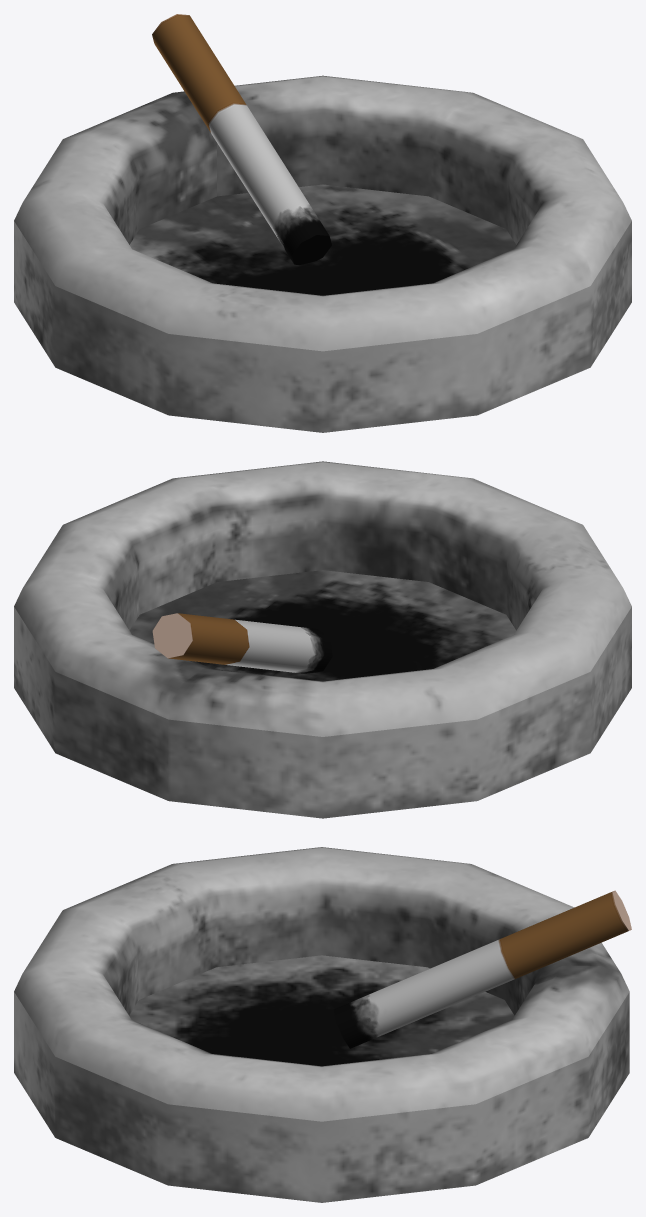
File: Ashtray.glb
3 views of the same model, one above another, from view 1: azimuth 30°, elevation 25°; view 2: azimuth 150°, elevation 25°; view 3: azimuth 270°, elevation 25° (orthographic).
Visible parts, largest first — view 1: Cylinder.001_misc_0; view 2: Cylinder.001_misc_0; view 3: Cylinder.001_misc_0.
Boxes of the visible parts, x1=… form: Cylinder.001_misc_0: x1=14, y1=14, x2=631, y2=432; Cylinder.001_misc_0: x1=14, y1=461, x2=631, y2=818; Cylinder.001_misc_0: x1=14, y1=847, x2=631, y2=1202.
Size of the model in its own units: 0.08 by 0.0259 by 0.0803.
Materials: 1 (1 with a texture image).
